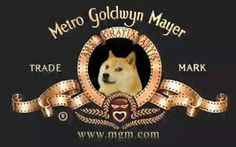doge: (98, 55, 137, 90)
